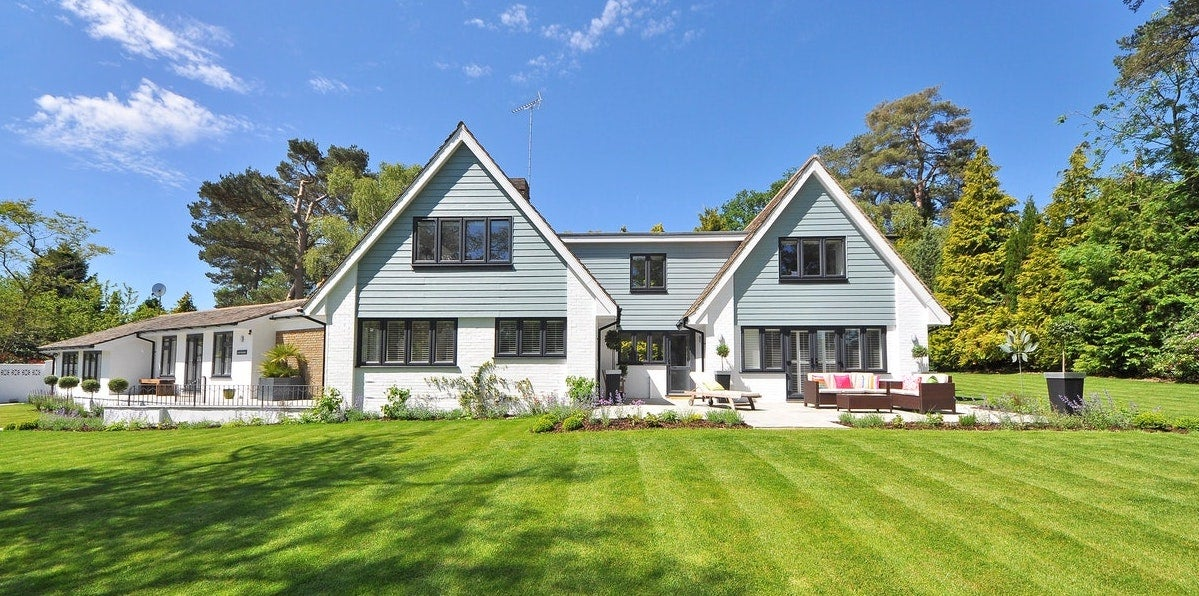Person: (60, 111, 1027, 464)
